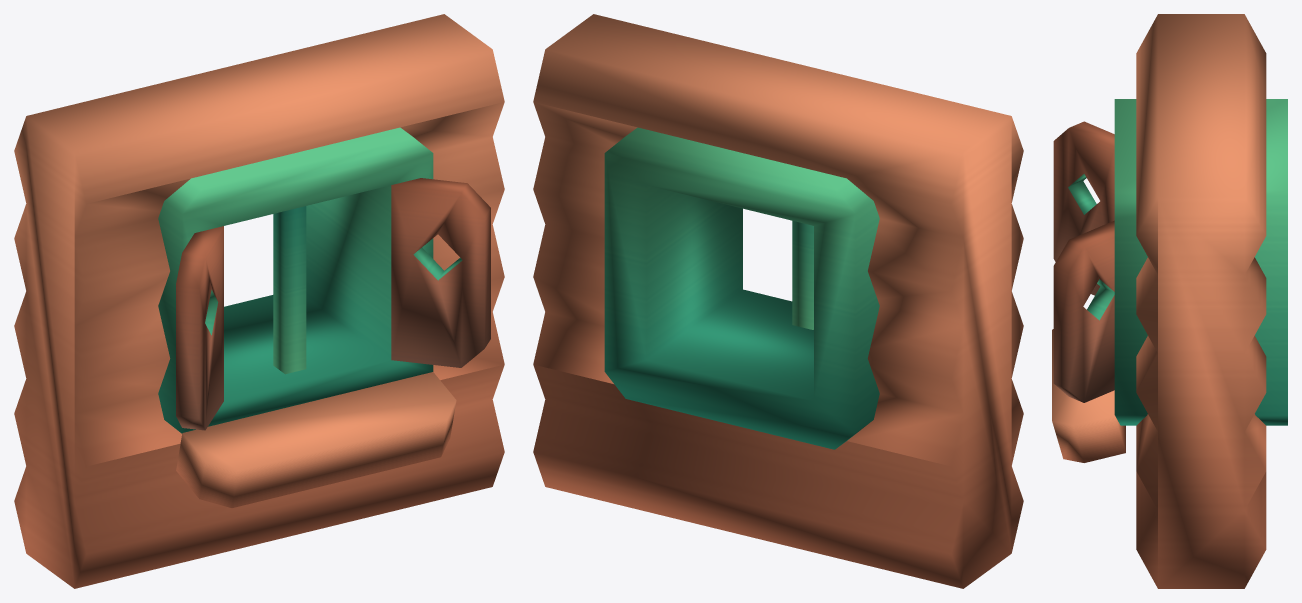
The model's file is cabin-window-c_lev3.glb.
3 views of the same model, side by side, from view 1: azimuth 30°, elevation 25°; view 2: azimuth 150°, elevation 25°; view 3: azimuth 270°, elevation 25° (orthographic). The views are drawn at different scales.
Visible parts, largest first — view 1: cabin-window-c_lev3; view 2: cabin-window-c_lev3; view 3: cabin-window-c_lev3.
Part boxes in pixels (left/top/right/bottom): cabin-window-c_lev3: left=14, top=14, right=504, bottom=588; cabin-window-c_lev3: left=533, top=14, right=1023, bottom=588; cabin-window-c_lev3: left=1052, top=14, right=1287, bottom=588.
Size of the model in its own units: 1 by 1 by 0.5449.
1 material, 1 textured.
